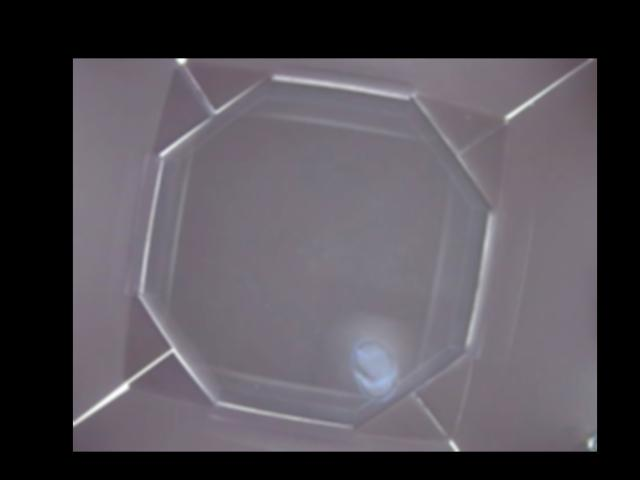Pebble: (354, 341, 398, 400)
